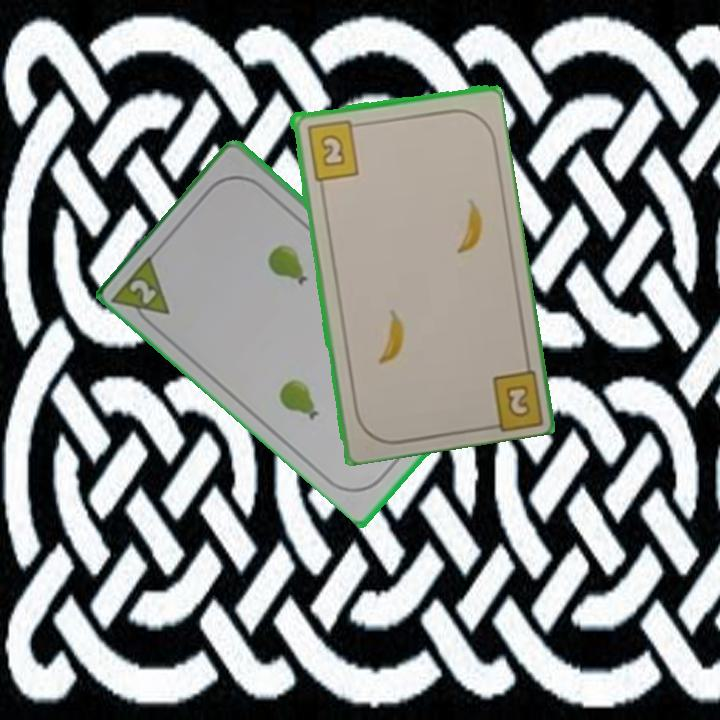2b: (303, 116, 364, 183), (501, 380, 534, 421)
2p: (126, 275, 161, 308)
